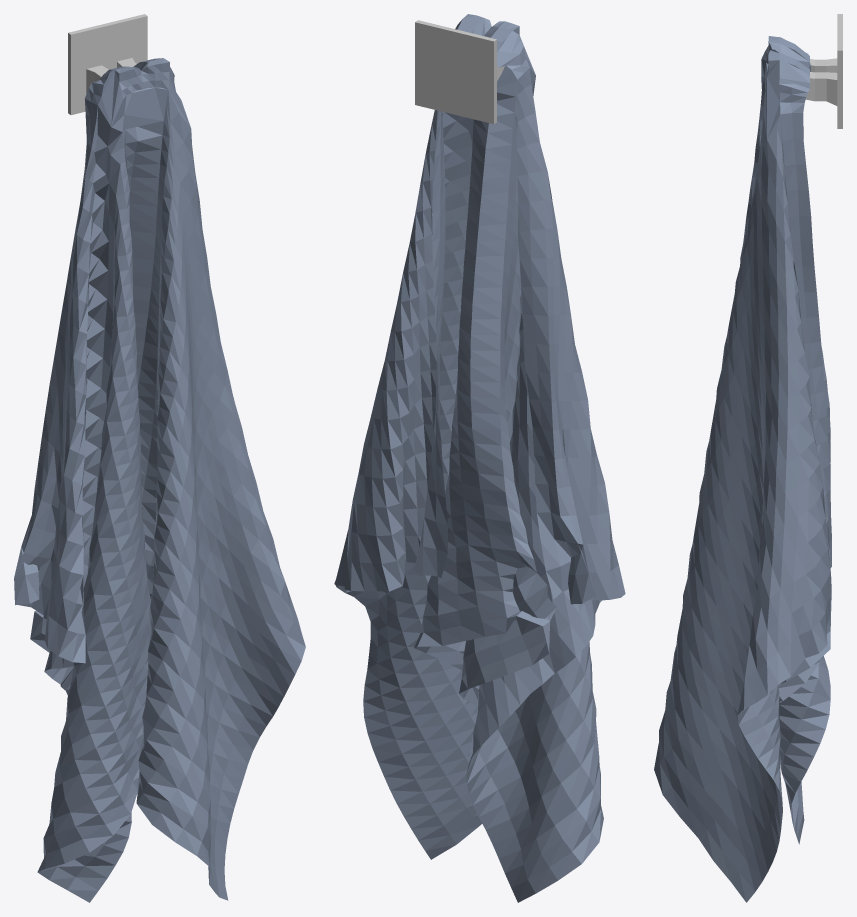
File: sweethome3d-blendswap-cc-0-towel.glb
3 renders of one model, left to right at view 1: azimuth 30°, elevation 25°; view 2: azimuth 150°, elevation 25°; view 3: azimuth 270°, elevation 25°, orthographic. The views are drawn at different scales.
Parts seen in each view (by area): view 1: hanging_towel_Plane.012, towel_hook_Cube.006; view 2: hanging_towel_Plane.012, towel_hook_Cube.006; view 3: hanging_towel_Plane.012, towel_hook_Cube.006.
Boxes of the visible parts, x1=… form: hanging_towel_Plane.012: x1=14, y1=58, x2=305, y2=902; towel_hook_Cube.006: x1=68, y1=14, x2=147, y2=114; hanging_towel_Plane.012: x1=334, y1=14, x2=625, y2=902; towel_hook_Cube.006: x1=415, y1=20, x2=504, y2=124; hanging_towel_Plane.012: x1=654, y1=36, x2=831, y2=902; towel_hook_Cube.006: x1=805, y1=14, x2=842, y2=128.
Bounding box in the file's own units: 21.8 × 66.85 × 13.69.
